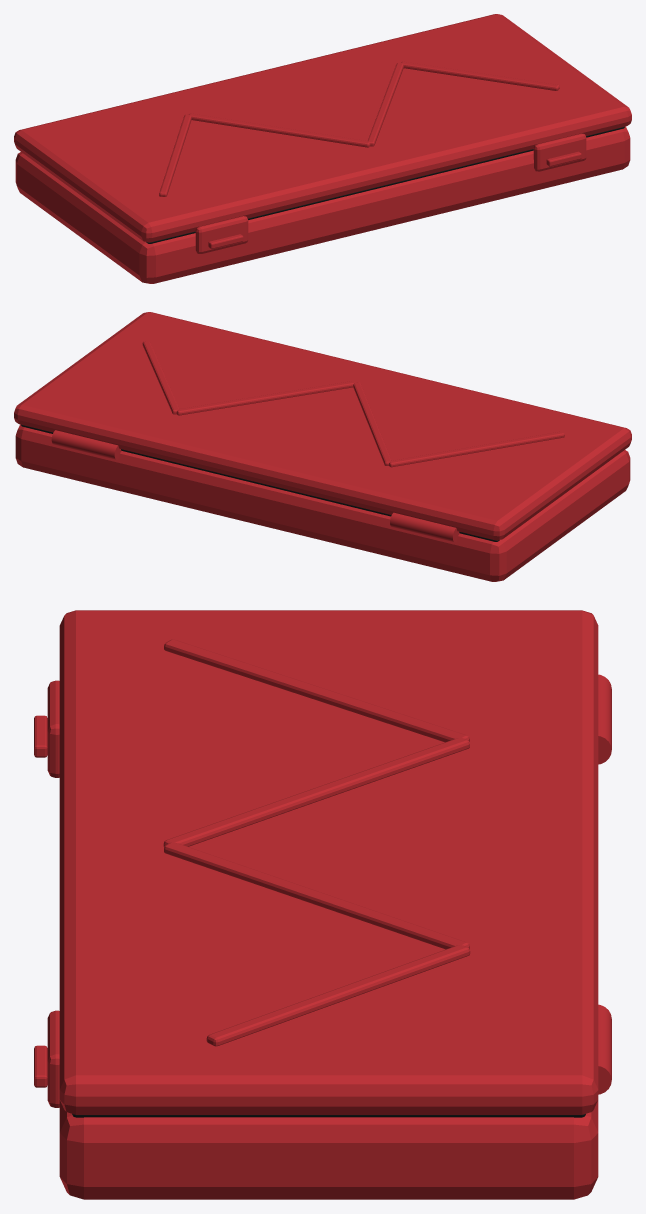
Rendered from lod1_source.glb.
The picture shows the model from 3 angles, top to bottom: view 1: azimuth 30°, elevation 25°; view 2: azimuth 150°, elevation 25°; view 3: azimuth 270°, elevation 25°; orthographic projection. The views are drawn at different scales.
Parts seen in each view (by area): view 1: Red fitted shallow lid, Red shallow lower shell, Moulded diagonal lid rib 1, Small red front closure, Small red front closure.001, Moulded diagonal lid rib 3, Dark red case split seam, Moulded diagonal lid rib 2, Moulded diagonal lid rib 0; view 2: Red fitted shallow lid, Red shallow lower shell, Moulded diagonal lid rib 2, Moulded diagonal lid rib 0, Red rear hinge, Red rear hinge.001, Dark red case split seam, Moulded diagonal lid rib 1, Moulded diagonal lid rib 3; view 3: Red fitted shallow lid, Red shallow lower shell, Moulded diagonal lid rib 1, Moulded diagonal lid rib 2, Moulded diagonal lid rib 0, Moulded diagonal lid rib 3, Dark red case split seam, Small red front closure.001, Small red front closure, Red rear hinge.001, Red rear hinge.
Part boxes in pixels (x1,y1,x2,y2): Red fitted shallow lid: (14, 14, 631, 242); Red shallow lower shell: (15, 126, 630, 283); Moulded diagonal lid rib 1: (189, 113, 370, 147); Small red front closure: (195, 216, 248, 254); Small red front closure.001: (533, 133, 586, 171); Moulded diagonal lid rib 3: (401, 61, 559, 90); Dark red case split seam: (146, 126, 624, 243); Moulded diagonal lid rib 2: (367, 63, 403, 146); Moulded diagonal lid rib 0: (159, 114, 191, 196); Red fitted shallow lid: (14, 312, 631, 540); Red shallow lower shell: (15, 424, 630, 581); Moulded diagonal lid rib 2: (176, 381, 355, 415); Moulded diagonal lid rib 0: (389, 431, 564, 467); Red rear hinge: (390, 512, 459, 542); Red rear hinge.001: (51, 430, 121, 460); Dark red case split seam: (21, 424, 499, 541); Moulded diagonal lid rib 1: (353, 382, 391, 465); Moulded diagonal lid rib 3: (142, 341, 179, 414); Red fitted shallow lid: (59, 610, 598, 1114); Red shallow lower shell: (59, 1100, 598, 1199); Moulded diagonal lid rib 1: (163, 737, 469, 847); Moulded diagonal lid rib 2: (164, 842, 469, 949); Moulded diagonal lid rib 0: (164, 639, 469, 742); Moulded diagonal lid rib 3: (206, 945, 470, 1046); Dark red case split seam: (72, 1114, 585, 1117); Small red front closure.001: (47, 1010, 59, 1107); Small red front closure: (47, 680, 59, 777); Red rear hinge.001: (598, 1004, 611, 1094); Red rear hinge: (598, 674, 611, 764).
Size of the model in its own units: 0.42 by 0.055 by 0.2145.
